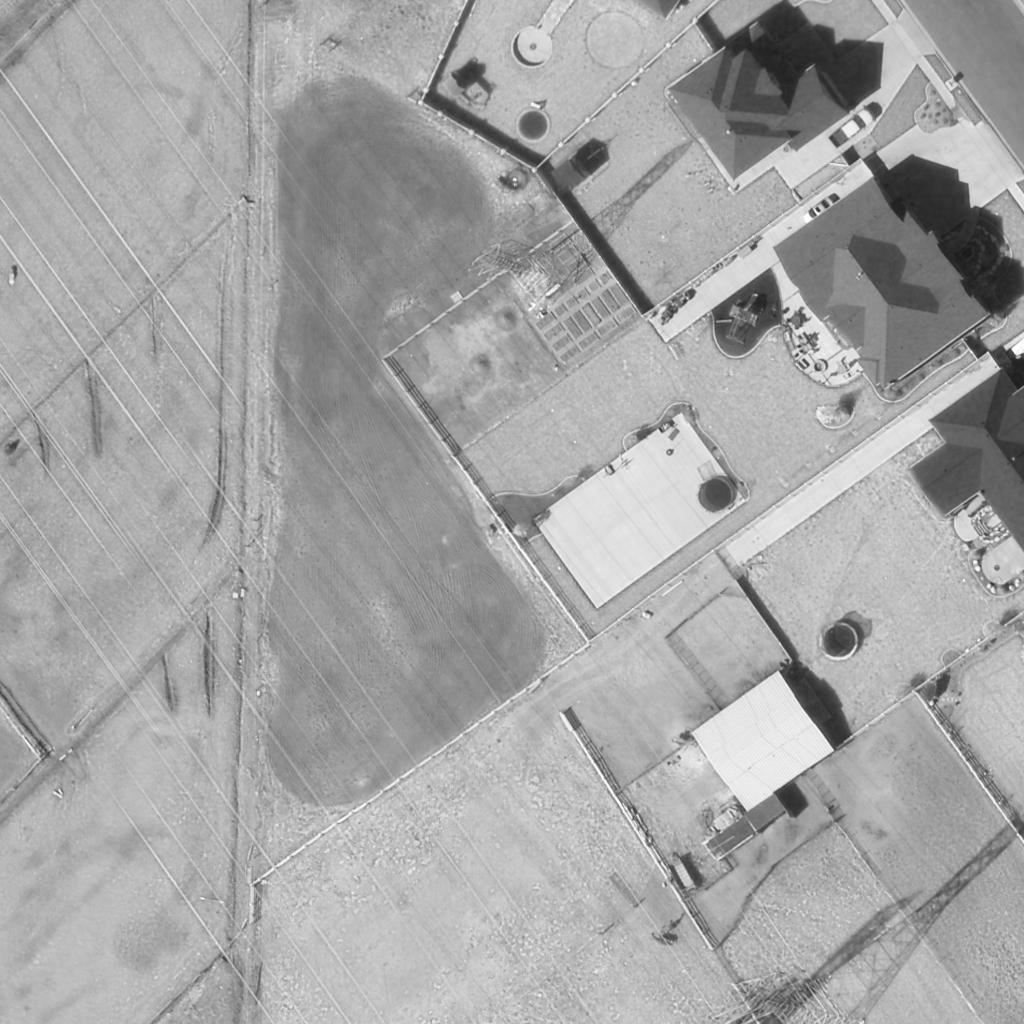vehicle: (825, 106, 879, 152)
